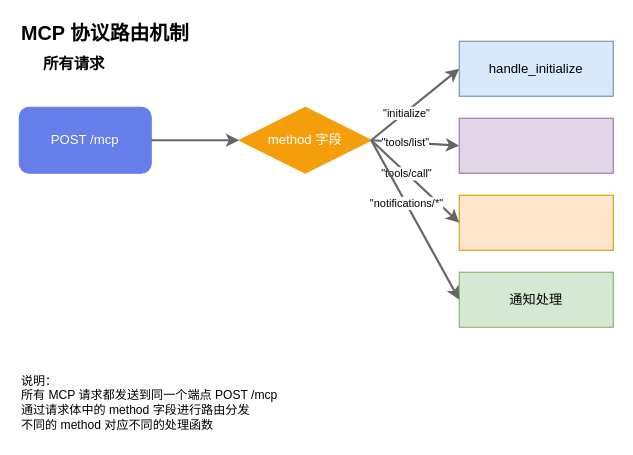
The diagram is 633 pixels wide and 455 high, and some of its shapes have lost their labels. Here are the shapes that lost their labels. From the top down, the centre of each, then its label:
At (x=535, y=145): "handle_tools_list".
At (x=535, y=222): "handle_tools_call".
